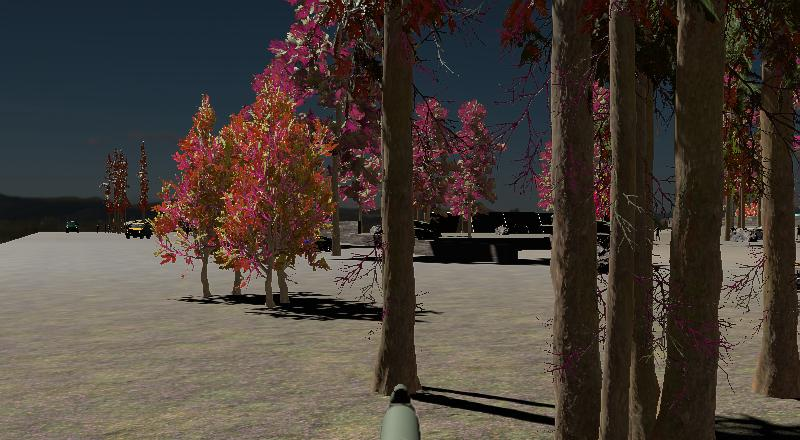car: (124, 218, 152, 240)
